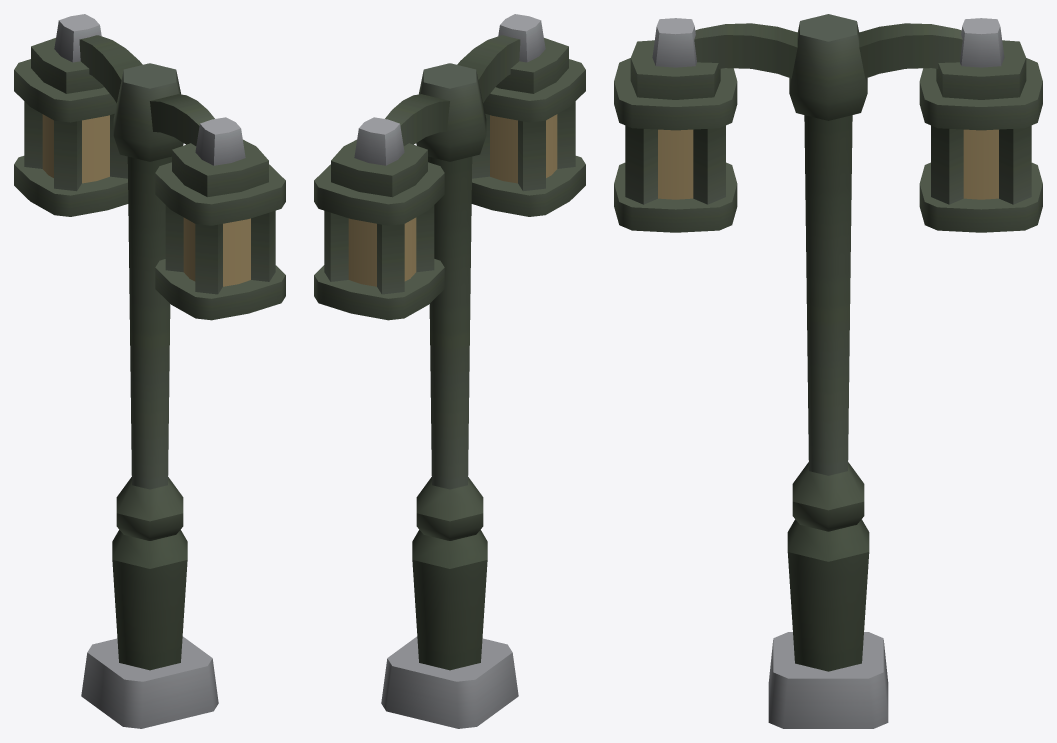
File: lightpost-double.glb
3 renders of one model, left to right at view 1: azimuth 30°, elevation 25°; view 2: azimuth 150°, elevation 25°; view 3: azimuth 270°, elevation 25°, orthographic. The views are drawn at different scales.
Parts seen in each view (by area): view 1: lightpost-double; view 2: lightpost-double; view 3: lightpost-double.
Part boxes in pixels (bbox=[...]): lightpost-double: bbox=[14, 14, 285, 728]; lightpost-double: bbox=[314, 14, 585, 728]; lightpost-double: bbox=[614, 14, 1042, 728].
Bounding box in the file's own units: 0.5012 × 3.04 × 1.74.
1 material, 1 textured.
